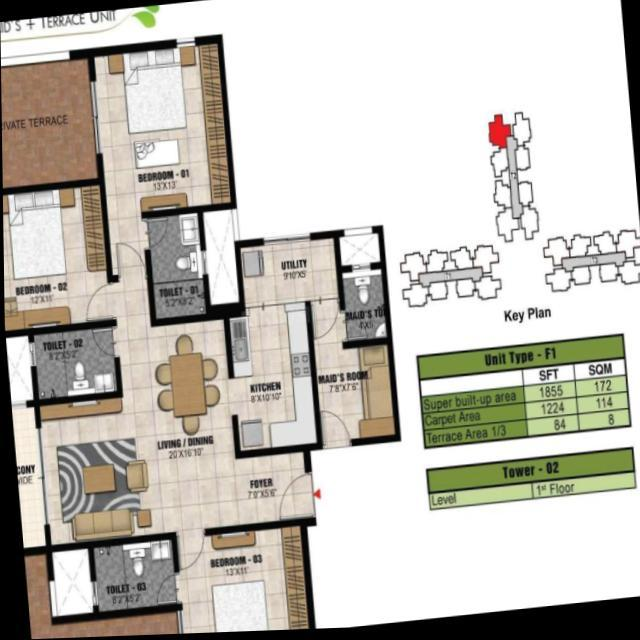Balcony-Sitout: (10, 406, 42, 547)
Bedroom: (2, 184, 110, 331)
Bedroom with Toilet: (93, 45, 230, 323), (88, 524, 309, 635)
Dining: (151, 331, 224, 441)
Enterance-Foyer: (234, 453, 320, 526)
Kitchen: (229, 312, 315, 453)
Living: (39, 396, 161, 545)
Toilet: (146, 215, 205, 320), (92, 539, 176, 611), (33, 327, 117, 398), (341, 276, 385, 343)
Utility: (238, 239, 337, 309)
